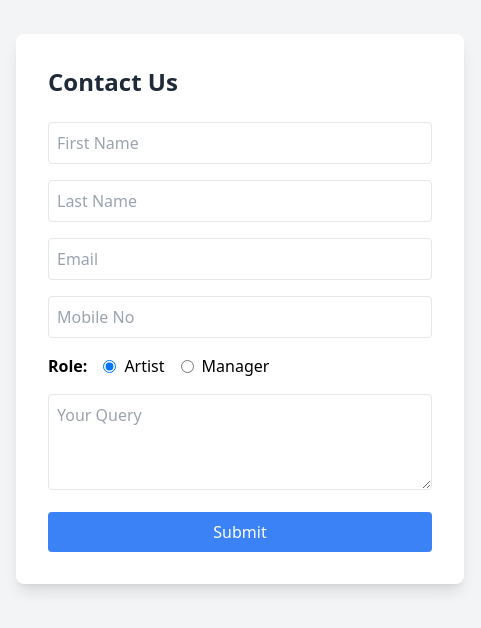
ContactForm Component › displays validation error when the query is too short
The width and height of the screenshot is (481, 628).
Type "John" into the field with placeholder "First Name" at (240,143), box [48,122,432,164]
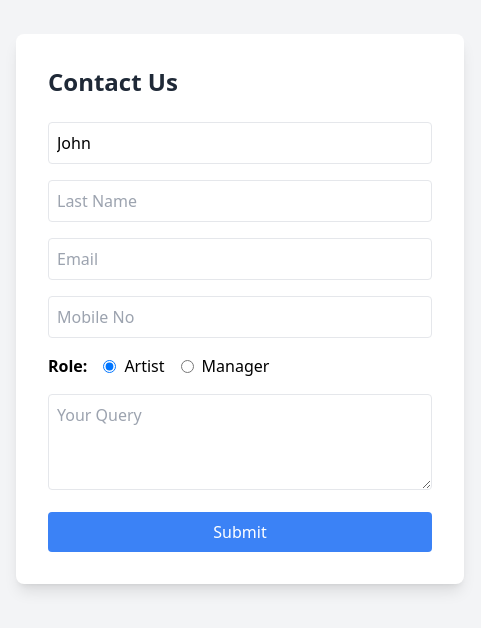
Type "Doe" into the field with placeholder "Last Name" at (240,201), box [48,180,432,222]
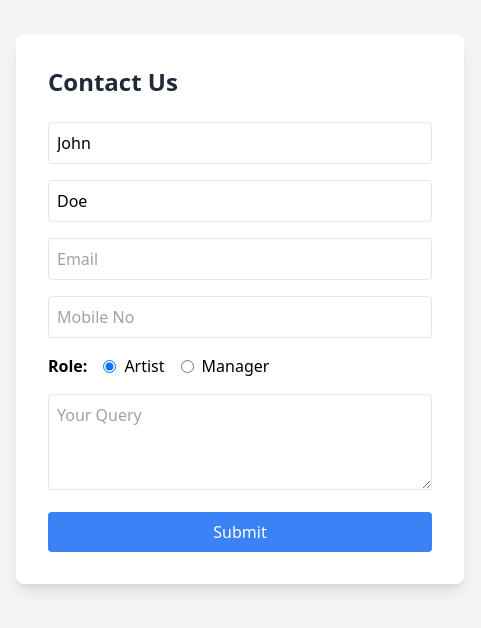
Type "john@example.com" into the field with placeholder "Email" at (240,259), box [48,238,432,280]
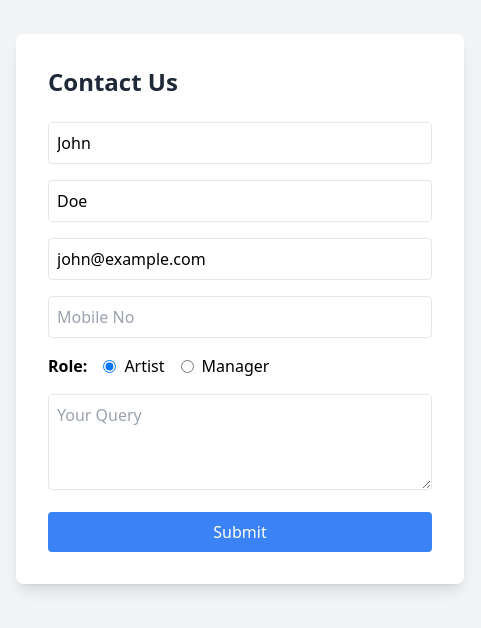
Type "1234567890" into the field with placeholder "Mobile No" at (240,317), box [48,296,432,338]
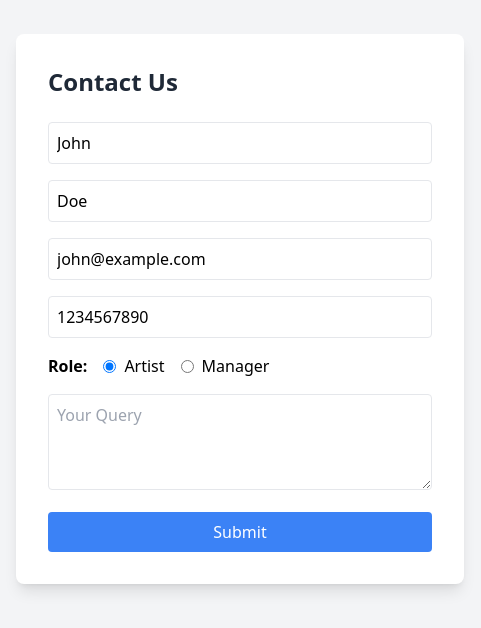
// Query less than 10 characters
Type "Too short" into the text box with placeholder "Your Query" at (240,442), box [48,394,432,490]
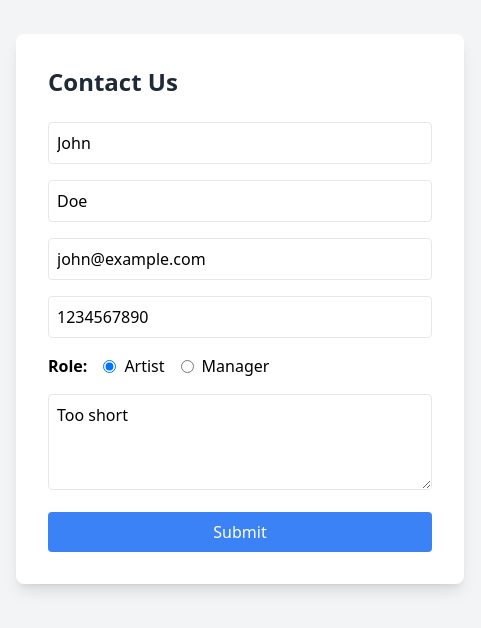
Click the button "Submit" at (240,532), box [48,512,432,552]
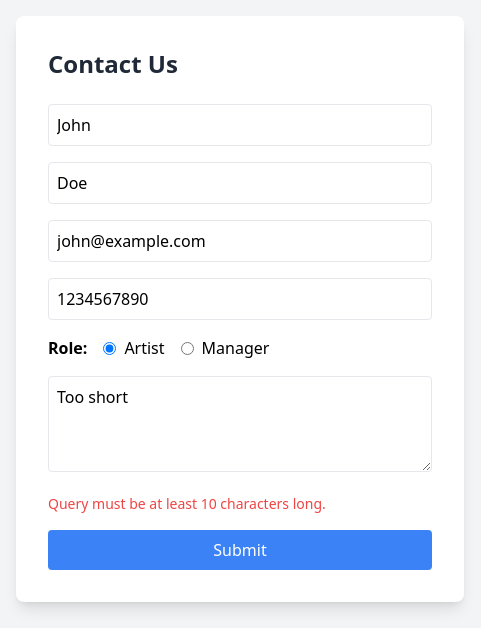
Check: the text "Query must be at least 10 characters long." is shown, box [48,494,326,513]
